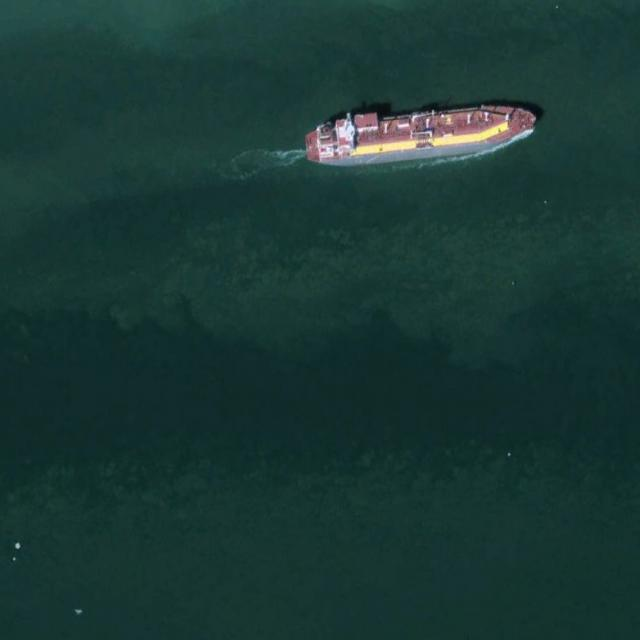ship: (304, 101, 538, 170)
